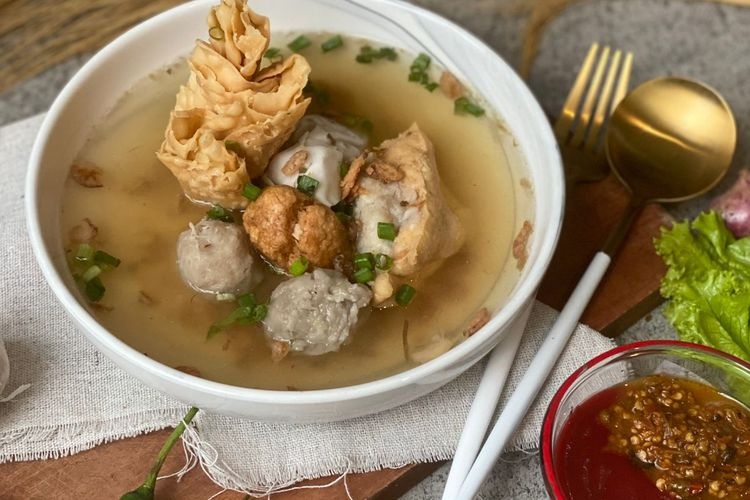bakso_malang: (67, 1, 538, 389)
